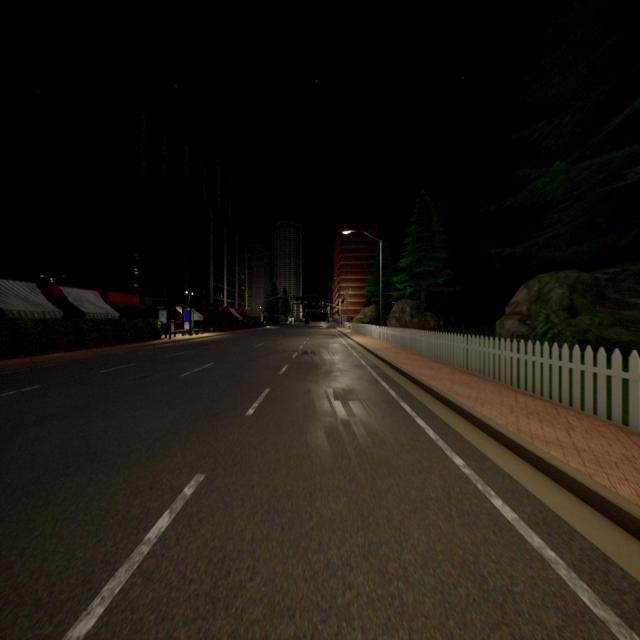Vehicle: (305, 320, 309, 325)
